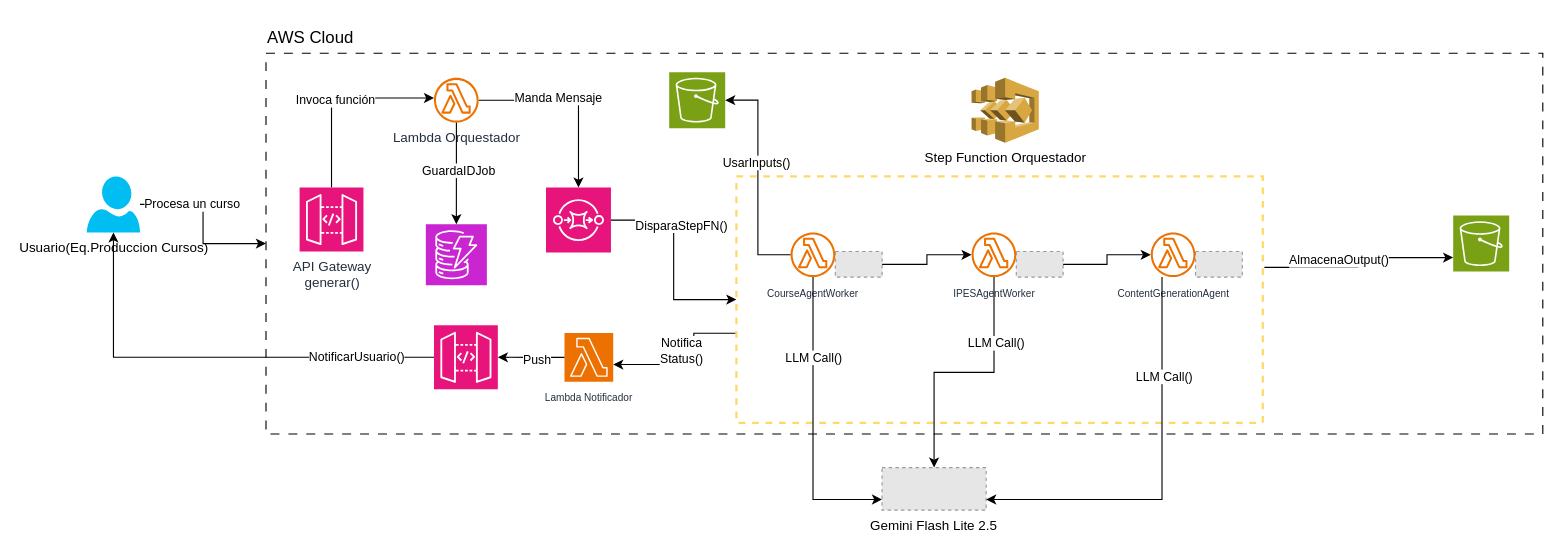
This 1564x552 diagram has some shape labels left out. Grey dashed boxes stand in for pictures. Each missing label, with the centre of its shape:
API WebHook Escuchar(): (465,356)
DynamoDB mantiene: (456,254)
INPUT bucket: (696,99)
OUTPUT Bucket: (1480,243)
SQS desacopla: (578,219)
